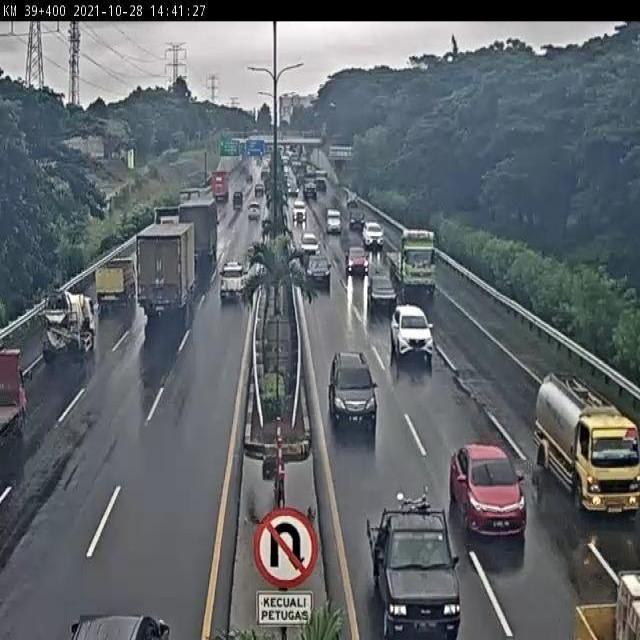car: (449, 442, 530, 542), (329, 352, 377, 427), (390, 305, 435, 363), (218, 260, 248, 300), (364, 272, 395, 309), (304, 252, 330, 284), (346, 245, 369, 275)
mid truck: (135, 222, 197, 314), (178, 196, 219, 259)
small truck: (365, 495, 463, 637), (94, 259, 136, 308)
truck-l-: (386, 228, 436, 297)
truck-m-: (535, 372, 638, 509), (38, 287, 97, 361)
